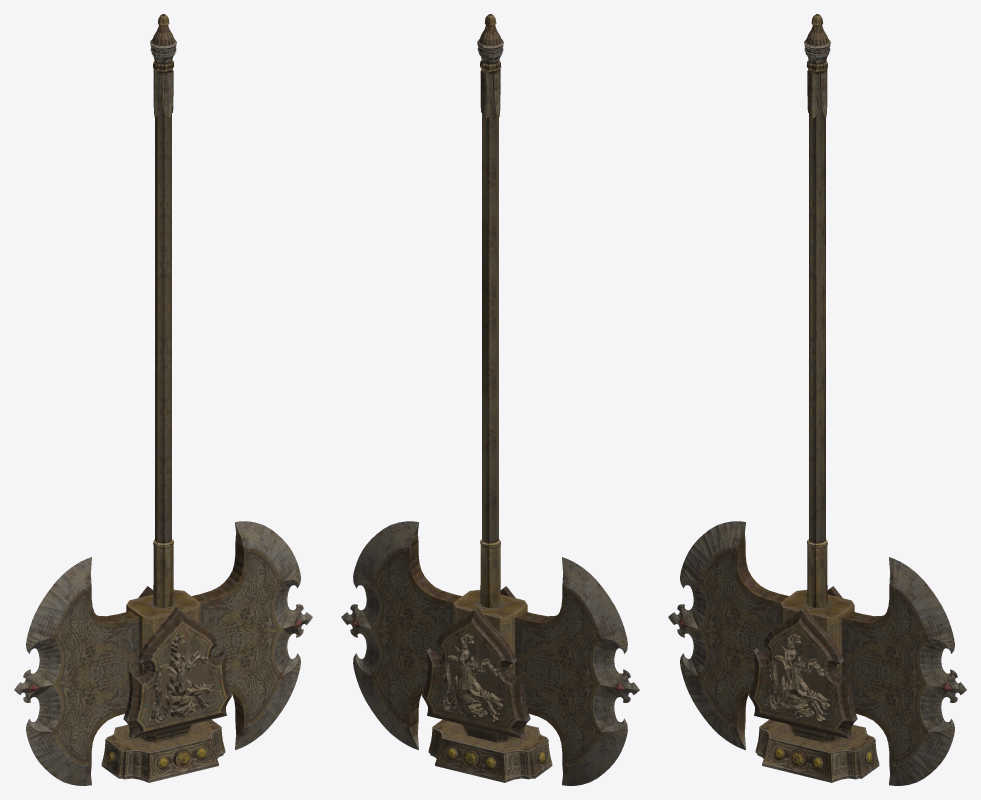
File: le_pd_godricksaxe.glb
The picture shows the model from 3 angles, left to right: view 1: azimuth 30°, elevation 25°; view 2: azimuth 150°, elevation 25°; view 3: azimuth 330°, elevation 25°; orthographic projection.
Visible parts, largest first — view 1: WP_A_0756.001; view 2: WP_A_0756.001; view 3: WP_A_0756.001.
Part boxes in pixels (x1,y1,x2,y2): WP_A_0756.001: (14,14,312,785); WP_A_0756.001: (341,14,639,785); WP_A_0756.001: (668,14,966,785).
Bounding box in the file's own units: 57.64 × 139 × 15.76.
1 material, 1 textured.
